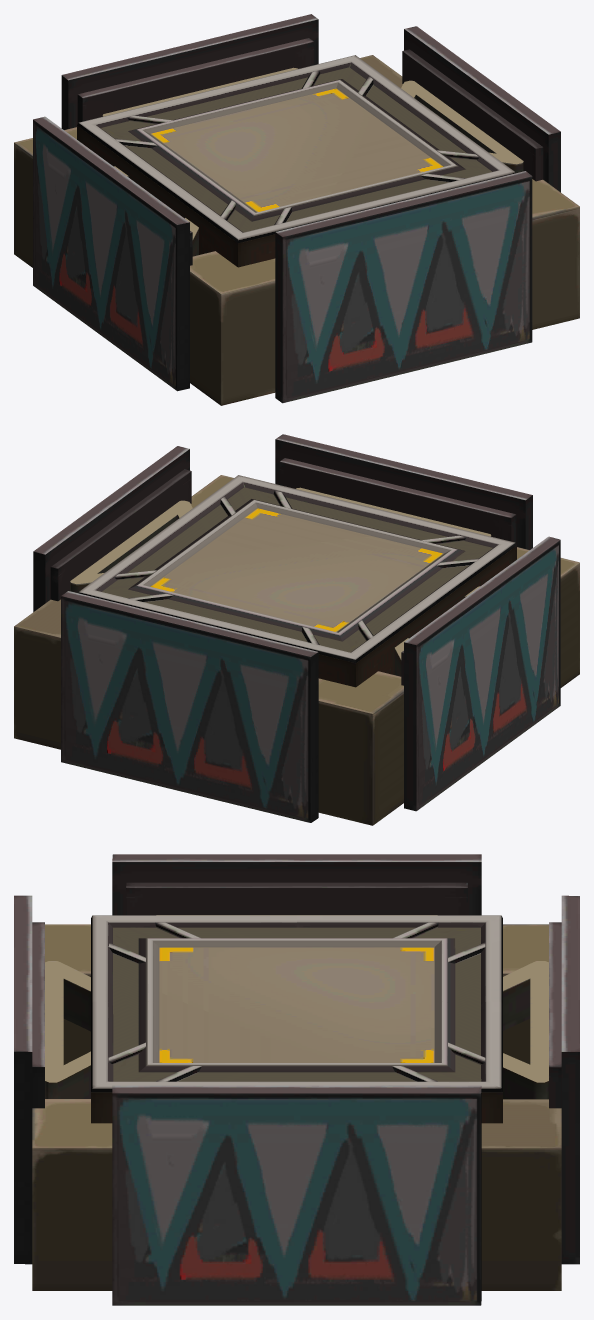
File: trap_457_xbfort.fbx
3 views of the same model, one above another, from view 1: azimuth 30°, elevation 25°; view 2: azimuth 150°, elevation 25°; view 3: azimuth 270°, elevation 25° (orthographic). The views are drawn at different scales.
Parts seen in each view (by area): view 1: trap_457_xbfort; view 2: trap_457_xbfort; view 3: trap_457_xbfort.
Part boxes in pixels (bbox=[...]): trap_457_xbfort: bbox=[14, 14, 579, 405]; trap_457_xbfort: bbox=[14, 434, 579, 825]; trap_457_xbfort: bbox=[14, 854, 579, 1305].
Size of the model in its own units: 1.06 by 0.4375 by 1.06.
Materials: 1 (1 with a texture image).
